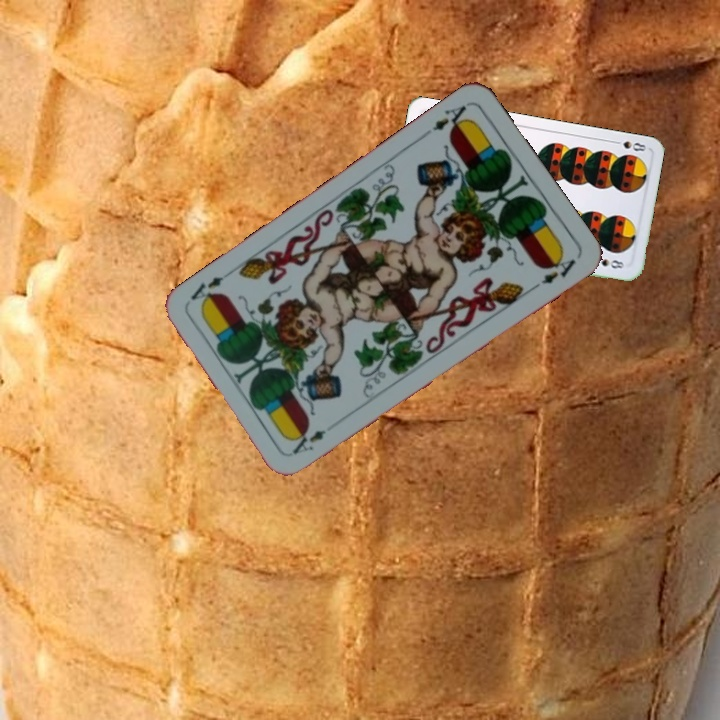EA: (419, 101, 472, 140), (287, 425, 329, 457)
S8: (608, 137, 649, 154)
